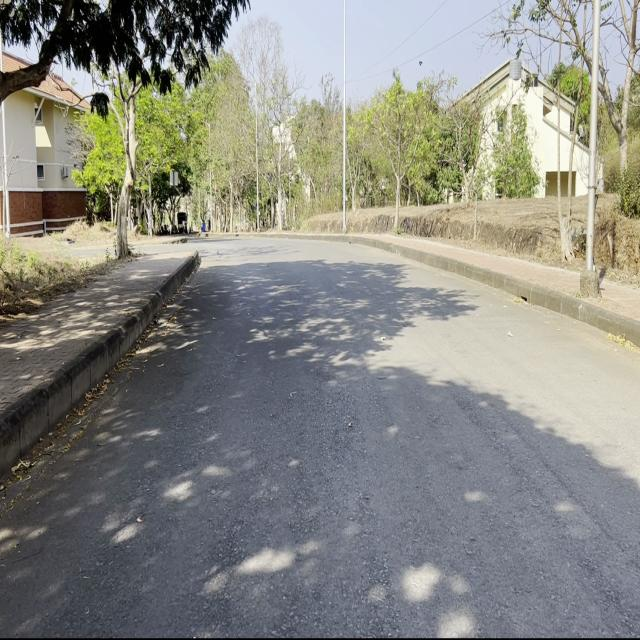Road: (7, 236, 637, 631)
